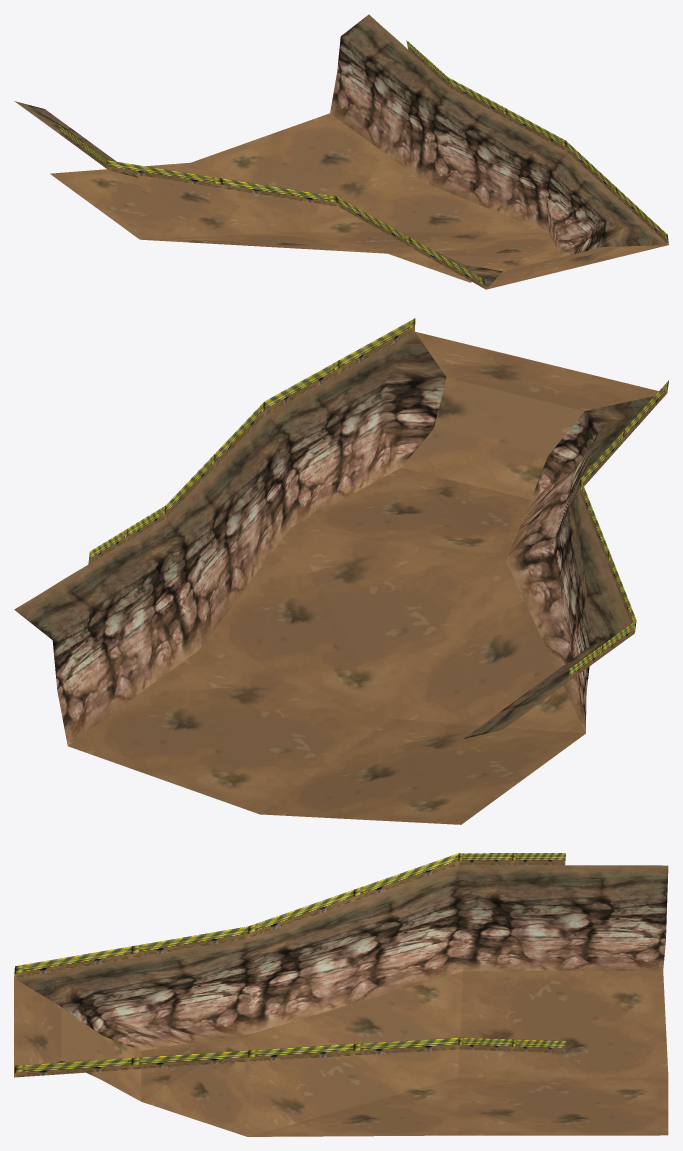
3 renders of one model, top to bottom at view 1: azimuth 30°, elevation 25°; view 2: azimuth 150°, elevation 25°; view 3: azimuth 270°, elevation 25°, orthographic. The views are drawn at different scales.
Visible parts, largest first — view 1: Object13; view 2: Object13; view 3: Object13.
Boxes of the visible parts, x1,y1,x2,y2 form: Object13: [14, 14, 668, 289]; Object13: [14, 318, 668, 824]; Object13: [14, 853, 668, 1136].
Size of the model in its own units: 4740 by 1433 by 6656.
Materials: 3 (3 with a texture image).
